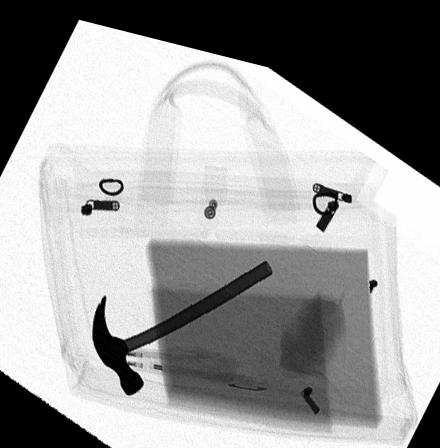Hammer: (92, 246, 272, 391)
